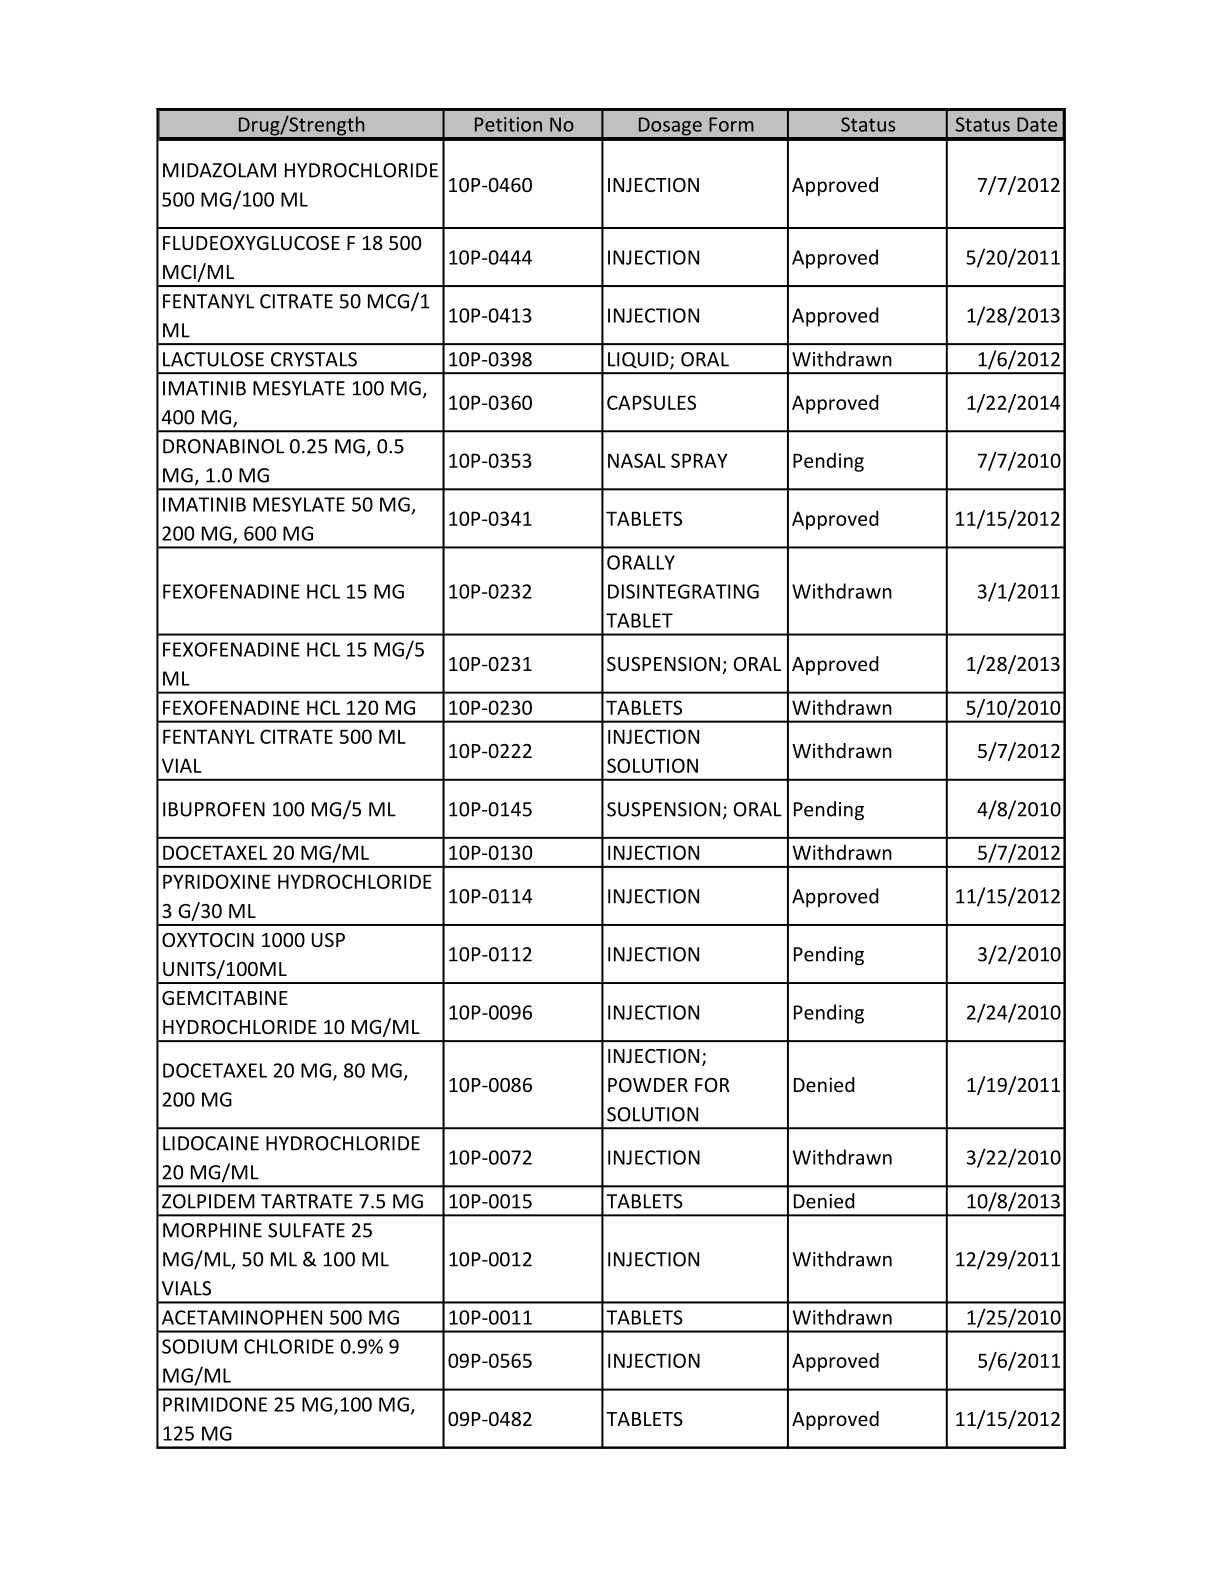full_lined: (156, 107, 1066, 1449)
